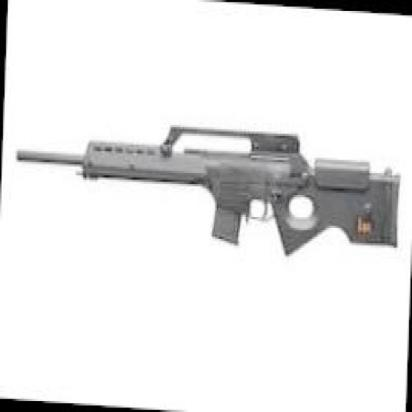Gun: (4, 114, 403, 268)
